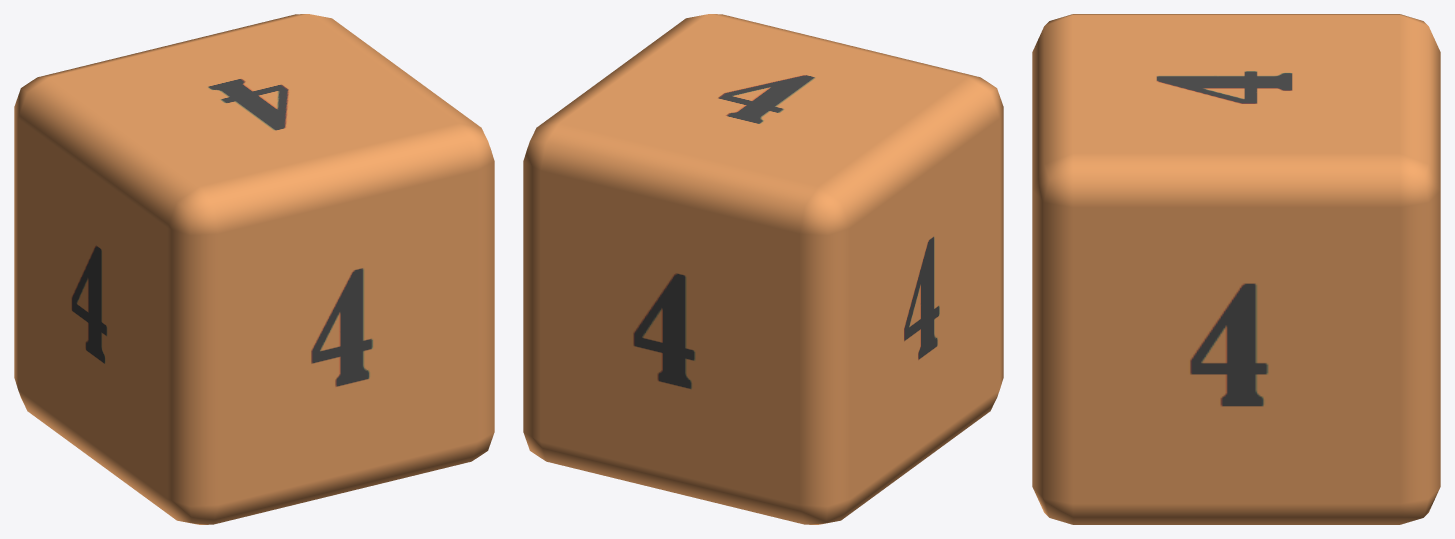
File: PoCube.fbx
3 views of the same model, side by side, from view 1: azimuth 30°, elevation 25°; view 2: azimuth 150°, elevation 25°; view 3: azimuth 270°, elevation 25° (orthographic). The views are drawn at different scales.
Visible parts, largest first — view 1: PoCube; view 2: PoCube; view 3: PoCube.
Part boxes in pixels (x1,y1,x2,y2): PoCube: (14, 14, 494, 524); PoCube: (523, 14, 1003, 524); PoCube: (1032, 14, 1440, 524).
Bounding box in the file's own units: 30 × 30 × 30.
